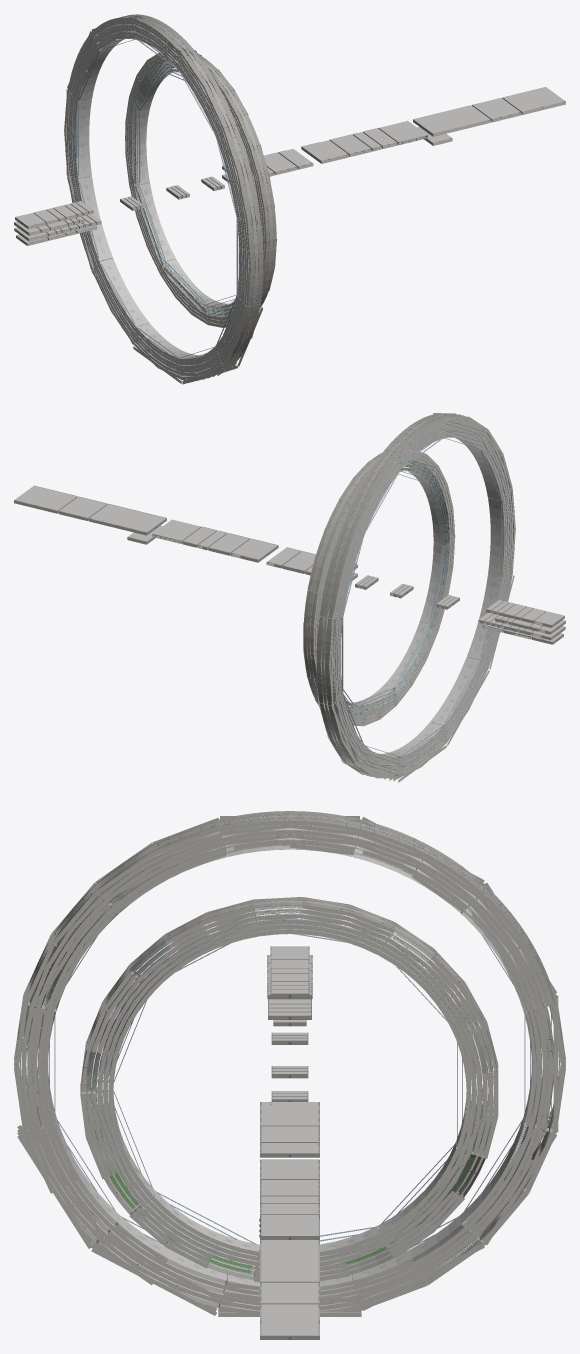
Rendered from xuanshu_interior_lod0.glb.
3 renders of one model, top to bottom at view 1: azimuth 30°, elevation 25°; view 2: azimuth 150°, elevation 25°; view 3: azimuth 270°, elevation 25°, orthographic. The views are drawn at different scales.
Visible parts, largest first — view 1: UNIT-HAB-011, UNIT-ADM-002, UNIT-AGR-003, UNIT-ATM-005, UNIT-FNR-002, UNIT-PWR-002, UNIT-AGR-012, UNIT-HAB-009, UNIT-ADM-001, UNIT-ARC-001, UNIT-PWR-004, UNIT-EDU-001 (+29 smaller); view 2: UNIT-HAB-009, UNIT-ARC-001, UNIT-RIT-003, UNIT-AGR-002, UNIT-EDU-001, UNIT-AGR-012, UNIT-WTP-005, UNIT-PWR-002, UNIT-PWR-004, UNIT-HAB-011, UNIT-AGR-005, UNIT-ADM-001 (+25 smaller); view 3: UNIT-AGR-012, UNIT-HAB-009, UNIT-HAB-011, UNIT-ADM-002, UNIT-AGR-002, UNIT-ARC-001, UNIT-AGR-003, UNIT-FNR-002, UNIT-ATM-005, UNIT-AGR-011, UNIT-AGR-010, UNIT-PRT-002 (+53 smaller).
Boxes of the visible parts, <box> form: UNIT-HAB-011: <box>181,50,264,307</box>; UNIT-ADM-002: <box>73,99,149,329</box>; UNIT-AGR-003: <box>134,109,215,306</box>; UNIT-ATM-005: <box>208,144,276,327</box>; UNIT-FNR-002: <box>133,304,262,384</box>; UNIT-PWR-002: <box>413,105,491,136</box>; UNIT-AGR-012: <box>129,53,259,146</box>; UNIT-HAB-009: <box>68,14,194,91</box>; UNIT-ADM-001: <box>76,35,178,102</box>; UNIT-ARC-001: <box>135,295,240,365</box>; UNIT-PWR-004: <box>502,87,565,114</box>; UNIT-EDU-001: <box>178,68,241,296</box>; UNIT-HAB-009: <box>319,414,446,619</box>; UNIT-ARC-001: <box>388,575,505,763</box>; UNIT-RIT-003: <box>315,616,398,778</box>; UNIT-AGR-002: <box>384,482,445,689</box>; UNIT-EDU-001: <box>443,434,506,577</box>; UNIT-AGR-012: <box>307,452,438,592</box>; UNIT-WTP-005: <box>303,591,396,726</box>; UNIT-PWR-002: <box>88,504,166,535</box>; UNIT-PWR-004: <box>14,485,77,513</box>; UNIT-HAB-011: <box>433,413,515,575</box>; UNIT-AGR-005: <box>394,479,447,692</box>; UNIT-ADM-001: <box>341,435,443,617</box>; UNIT-AGR-012: <box>129,897,486,1030</box>; UNIT-HAB-009: <box>219,811,554,1005</box>; UNIT-HAB-011: <box>14,818,219,1133</box>; UNIT-ADM-002: <box>352,1011,538,1286</box>; UNIT-AGR-002: <box>108,987,259,1255</box>; UNIT-ARC-001: <box>52,1116,353,1290</box>; UNIT-AGR-003: <box>258,1036,471,1256</box>; UNIT-FNR-002: <box>17,1123,361,1316</box>; UNIT-ATM-005: <box>80,964,254,1279</box>; UNIT-AGR-011: <box>85,971,254,1275</box>; UNIT-AGR-010: <box>134,908,481,1032</box>; UNIT-PRT-002: <box>91,973,255,1270</box>.
Size of the model in its own units: 671 by 404 by 406.
